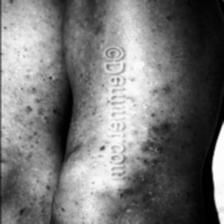Toxin: (0, 30, 50, 218), (127, 75, 181, 224), (77, 42, 108, 224)
